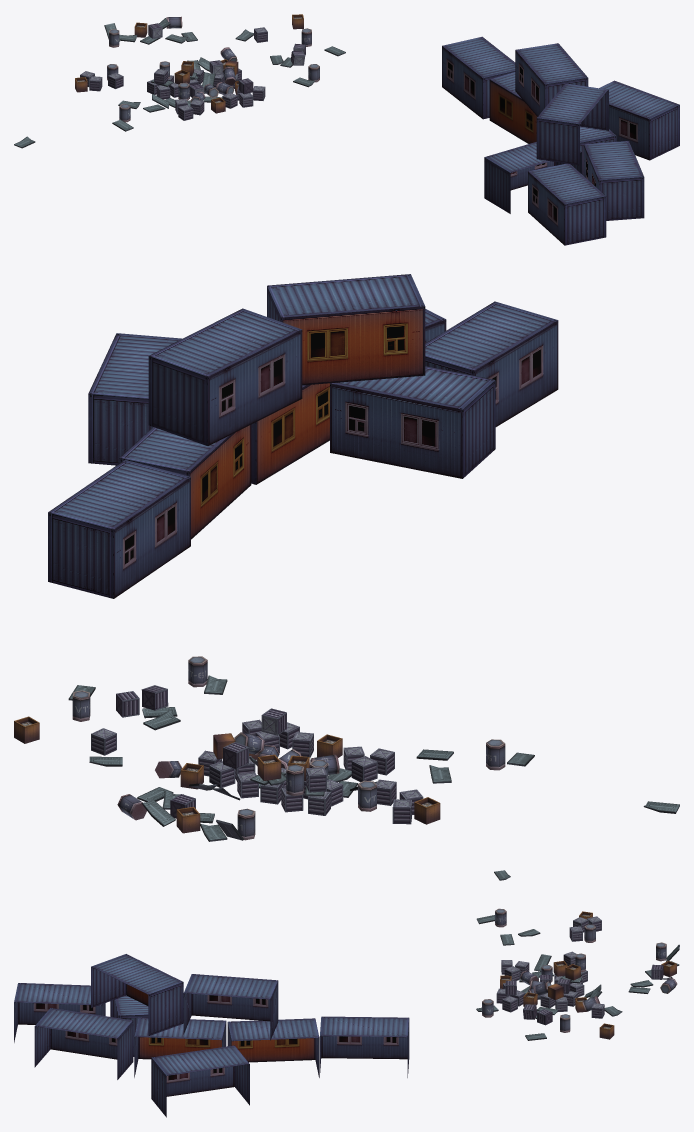
File: S2_FloorCube.FBX
3 views of the same model, one above another, from view 1: azimuth 30°, elevation 25°; view 2: azimuth 150°, elevation 25°; view 3: azimuth 270°, elevation 25° (orthographic). The views are drawn at different scales.
Parts seen in each view (by area): view 1: S2_FloorCube; view 2: S2_FloorCube; view 3: S2_FloorCube.
Boxes of the visible parts, bbox=[...] form: S2_FloorCube: bbox=[14, 14, 679, 245]; S2_FloorCube: bbox=[14, 274, 679, 841]; S2_FloorCube: bbox=[14, 870, 679, 1117].
Size of the model in its own units: 6055 by 6917 by 1139.
